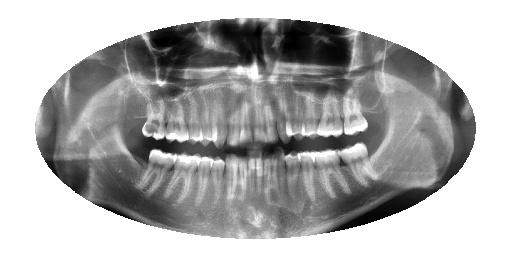i10healthy: (238, 151, 249, 205)
i11healthy: (224, 151, 239, 207)
i12healthy: (206, 152, 227, 209)
i13healthy: (195, 153, 215, 208)
i14healthy: (163, 150, 203, 208)
i15healthy: (136, 147, 179, 201)
i2healthy: (335, 138, 379, 189)
i3healthy: (313, 147, 352, 201)
i4healthy: (296, 147, 337, 204)
i5healthy: (280, 144, 303, 208)
i6healthy: (271, 146, 288, 204)
i7healthy: (262, 148, 276, 208)
i8healthy: (254, 149, 265, 208)
i9healthy: (247, 152, 256, 208)
u10healthy: (224, 89, 240, 152)
u11healthy: (207, 89, 230, 151)
u12healthy: (196, 84, 217, 148)
u13healthy: (182, 89, 204, 146)
u14healthy: (163, 93, 191, 145)
u15healthy: (140, 94, 168, 142)
u2healthy: (339, 85, 370, 140)
u3healthy: (315, 91, 347, 142)
u4healthy: (297, 87, 320, 141)
u5healthy: (284, 85, 305, 143)
u6healthy: (274, 89, 294, 147)
u7healthy: (261, 92, 279, 145)
u8healthy: (249, 90, 268, 150)
u9healthy: (240, 90, 254, 151)
